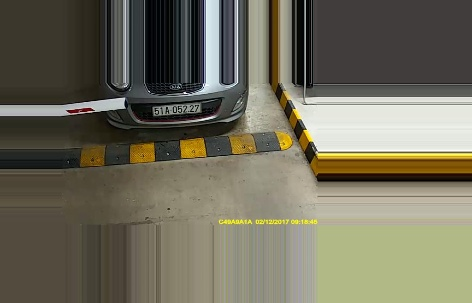plate: (151, 102, 205, 120)
